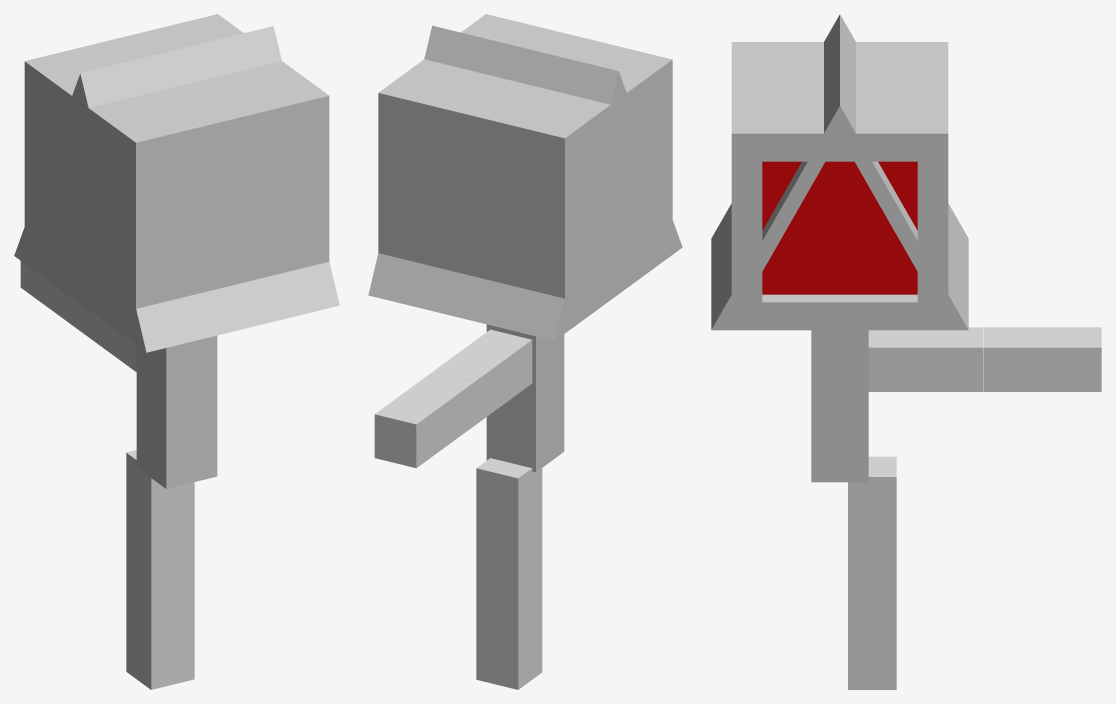
Rendered from HelperBot1.fbx.
The picture shows the model from 3 angles, left to right: view 1: azimuth 30°, elevation 25°; view 2: azimuth 150°, elevation 25°; view 3: azimuth 270°, elevation 25°; orthographic projection. The views are drawn at different scales.
Visible parts, largest first — view 1: Cube.005, Cube.006, Cube, Cube.004, Cube.003, Cube.002, Cube.001; view 2: Cube.005, Cube.006, Cube.003, Cube, Cube.004, Cube.002, Cube.001; view 3: Cube.005, Cube.006, Cube, Cube.002, Cube.001, Cube.003, Cube.004.
Part boxes in pixels (left/top/right/bottom): Cube.005: left=24, top=14, right=329, bottom=344; Cube.006: left=14, top=26, right=339, bottom=352; Cube: left=136, top=335, right=217, bottom=488; Cube.004: left=126, top=562, right=194, bottom=689; Cube.003: left=126, top=450, right=194, bottom=580; Cube.002: left=20, top=261, right=81, bottom=331; Cube.001: left=81, top=305, right=136, bottom=371; Cube.005: left=378, top=14, right=672, bottom=331; Cube.006: left=368, top=25, right=682, bottom=340; Cube.003: left=476, top=458, right=542, bottom=583; Cube: left=486, top=324, right=564, bottom=472; Cube.004: left=476, top=567, right=542, bottom=689; Cube.002: left=374, top=371, right=474, bottom=468; Cube.001: left=433, top=329, right=532, bottom=424; Cube.005: left=731, top=42, right=948, bottom=330; Cube.006: left=711, top=14, right=968, bottom=330; Cube: left=811, top=330, right=868, bottom=482; Cube.002: left=984, top=327, right=1101, bottom=391; Cube.001: left=868, top=327, right=983, bottom=391; Cube.003: left=848, top=456, right=896, bottom=583; Cube.004: left=848, top=583, right=896, bottom=689.
Size of the model in its own units: 200 by 631 by 360.
